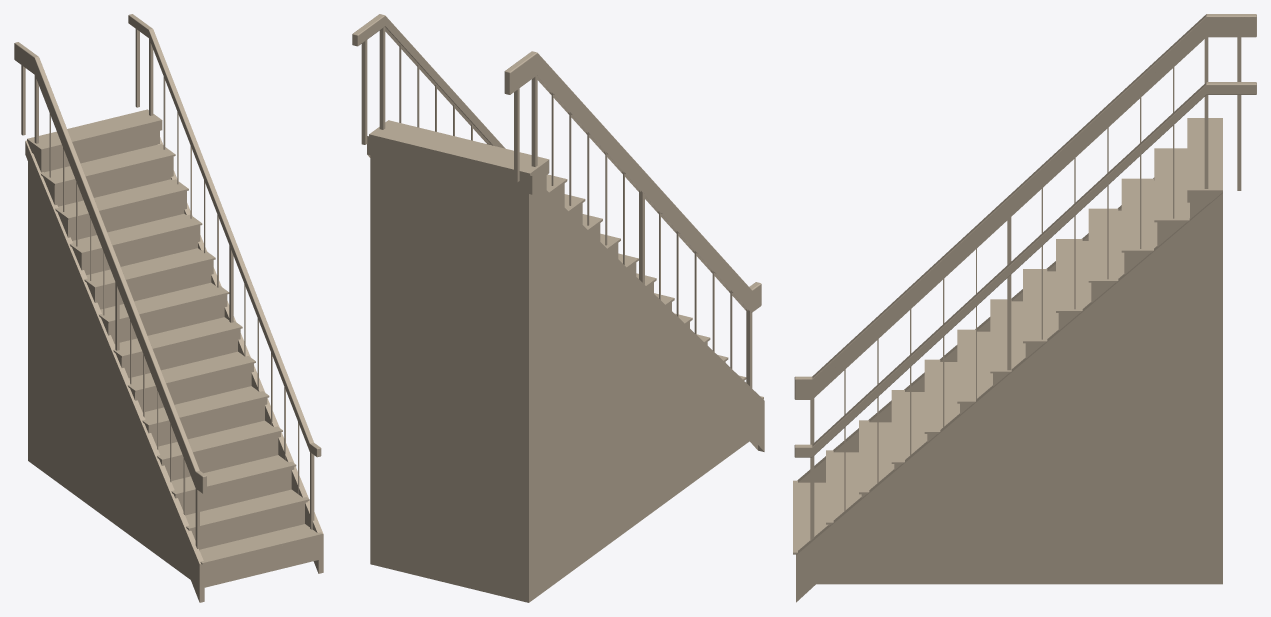
The model's file is 3dcodebench_StraightStaircase_seed0.glb.
3 renders of one model, left to right at view 1: azimuth 30°, elevation 25°; view 2: azimuth 150°, elevation 25°; view 3: azimuth 270°, elevation 25°, orthographic. The views are drawn at different scales.
Visible parts, largest first — view 1: object; view 2: object; view 3: object.
Part boxes in pixels (x1=…): object: x1=14, y1=14, x2=323, y2=602; object: x1=352, y1=14, x2=764, y2=602; object: x1=793, y1=14, x2=1256, y2=602.
Bounding box in the file's own units: 1.29 × 4.2 × 3.42.
